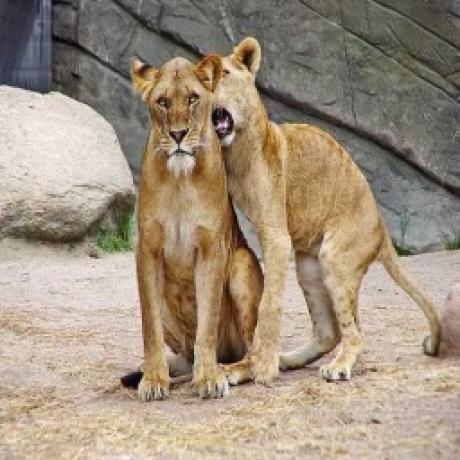Lion: (214, 36, 447, 391), (122, 49, 260, 416)
